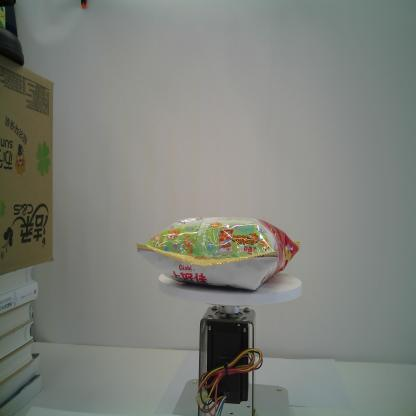Puffed Food: (134, 215, 301, 292)
